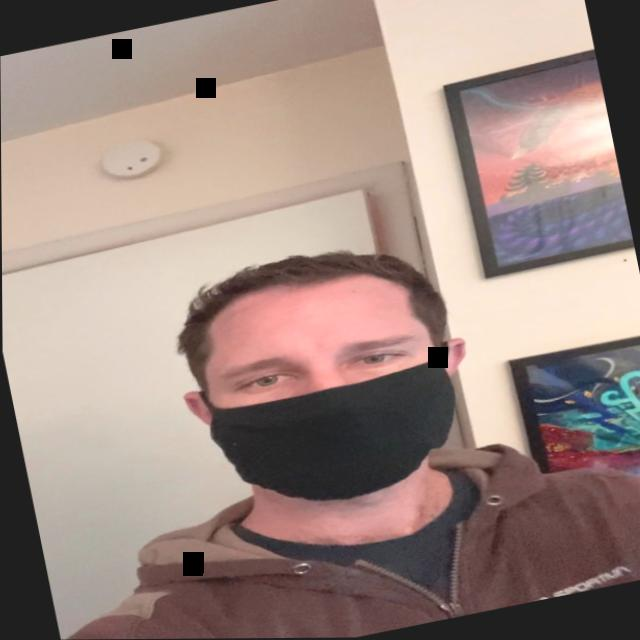Mask: (157, 236, 500, 556)
